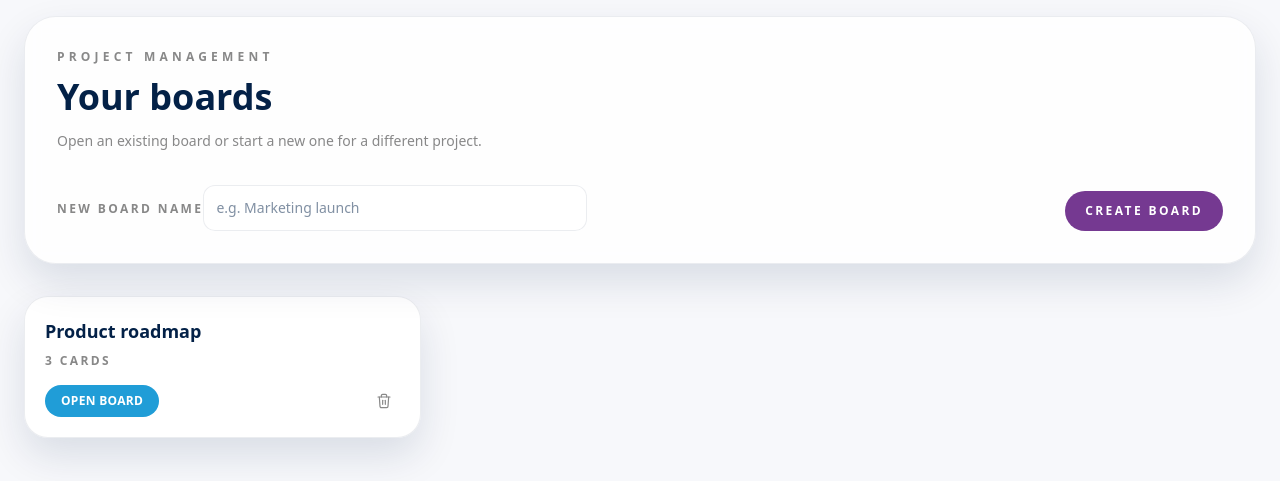
Test: BoardDashboard › deletes a board
Click the button named "Delete Product roadmap".
click(384, 401)  # box [368,385,400,417]
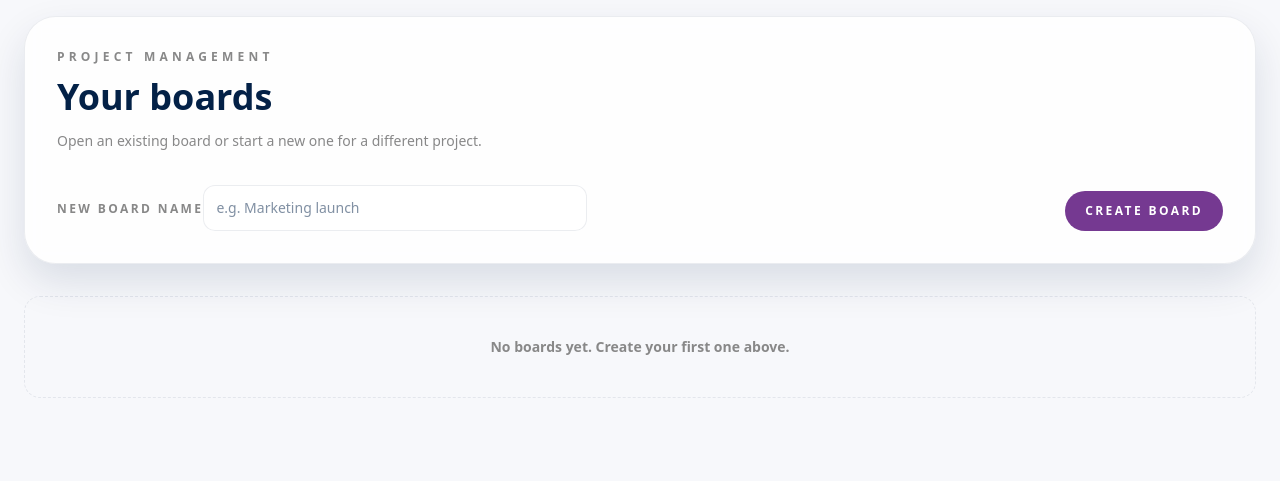
Expected: the field showing "Product roadmap" is not shown
Expected: the text "No boards yet. Create your first one above." is shown, [24,296,1256,398]
